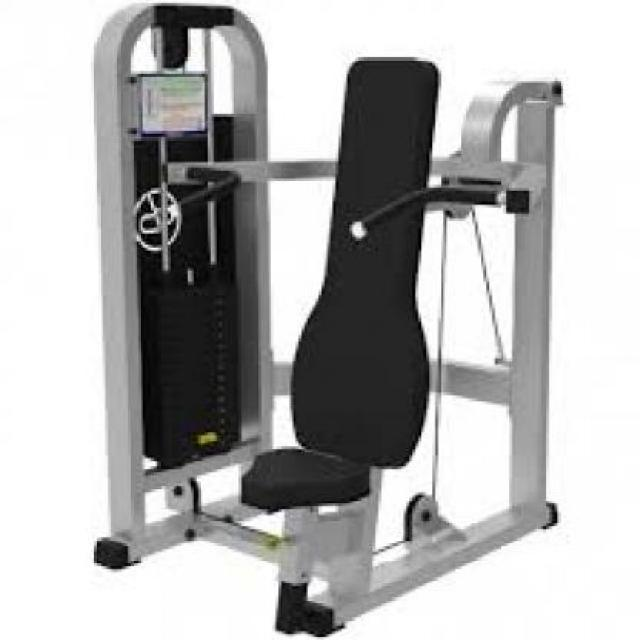shoulder press machine: (66, 0, 591, 640)
